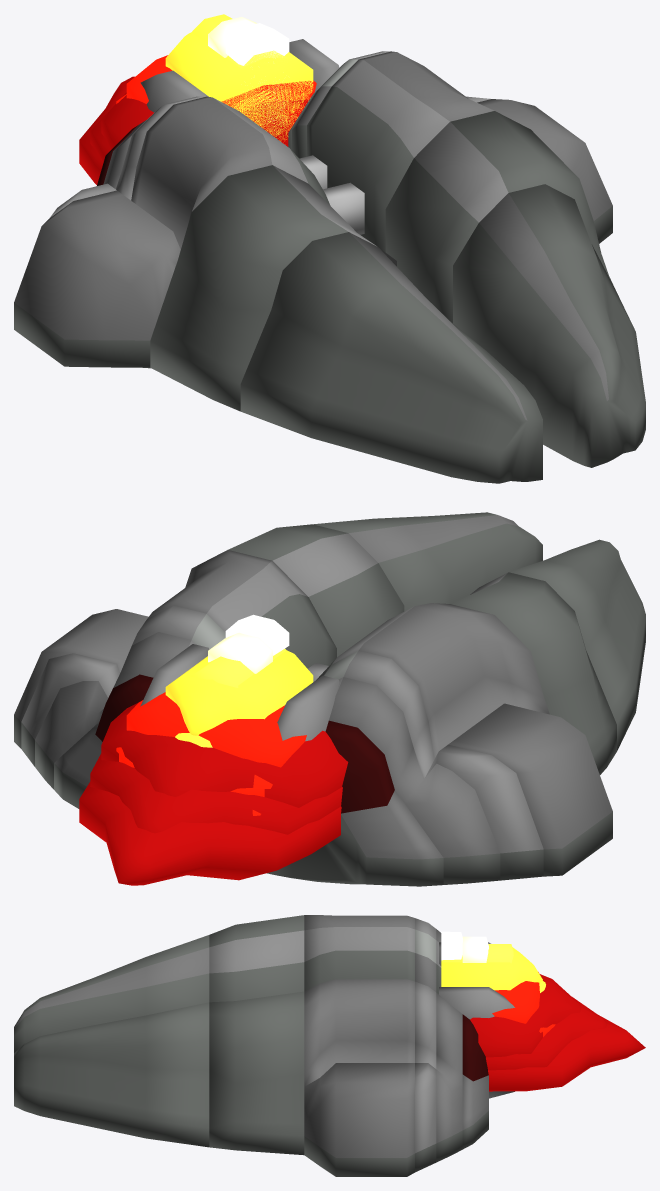
File: newshm-89.glb
3 renders of one model, top to bottom at view 1: azimuth 30°, elevation 25°; view 2: azimuth 150°, elevation 25°; view 3: azimuth 270°, elevation 25°, orthographic. The views are drawn at different scales.
Parts seen in each view (by area): view 1: newshm-89, newshm-89-flame-89, newshm-89-flame-91, newshm-89-flame-93; view 2: newshm-89, newshm-89-flame-89, newshm-89-flame-93, newshm-89-flame-91; view 3: newshm-89, newshm-89-flame-89, newshm-89-flame-93, newshm-89-flame-91.
Part boxes in pixels (x1,y1,x2,y2): newshm-89: (14,39,645,483); newshm-89-flame-89: (101,14,316,149); newshm-89-flame-91: (90,85,310,161); newshm-89-flame-93: (79,76,297,184); newshm-89: (14,512,645,886); newshm-89-flame-89: (101,614,348,807); newshm-89-flame-93: (79,782,341,885); newshm-89-flame-91: (90,733,342,834); newshm-89: (14,915,514,1176); newshm-89-flame-89: (441,931,581,1057); newshm-89-flame-93: (488,1015,645,1091); newshm-89-flame-91: (486,980,607,1070).
Size of the model in its own units: 1.41 by 0.6218 by 2.
